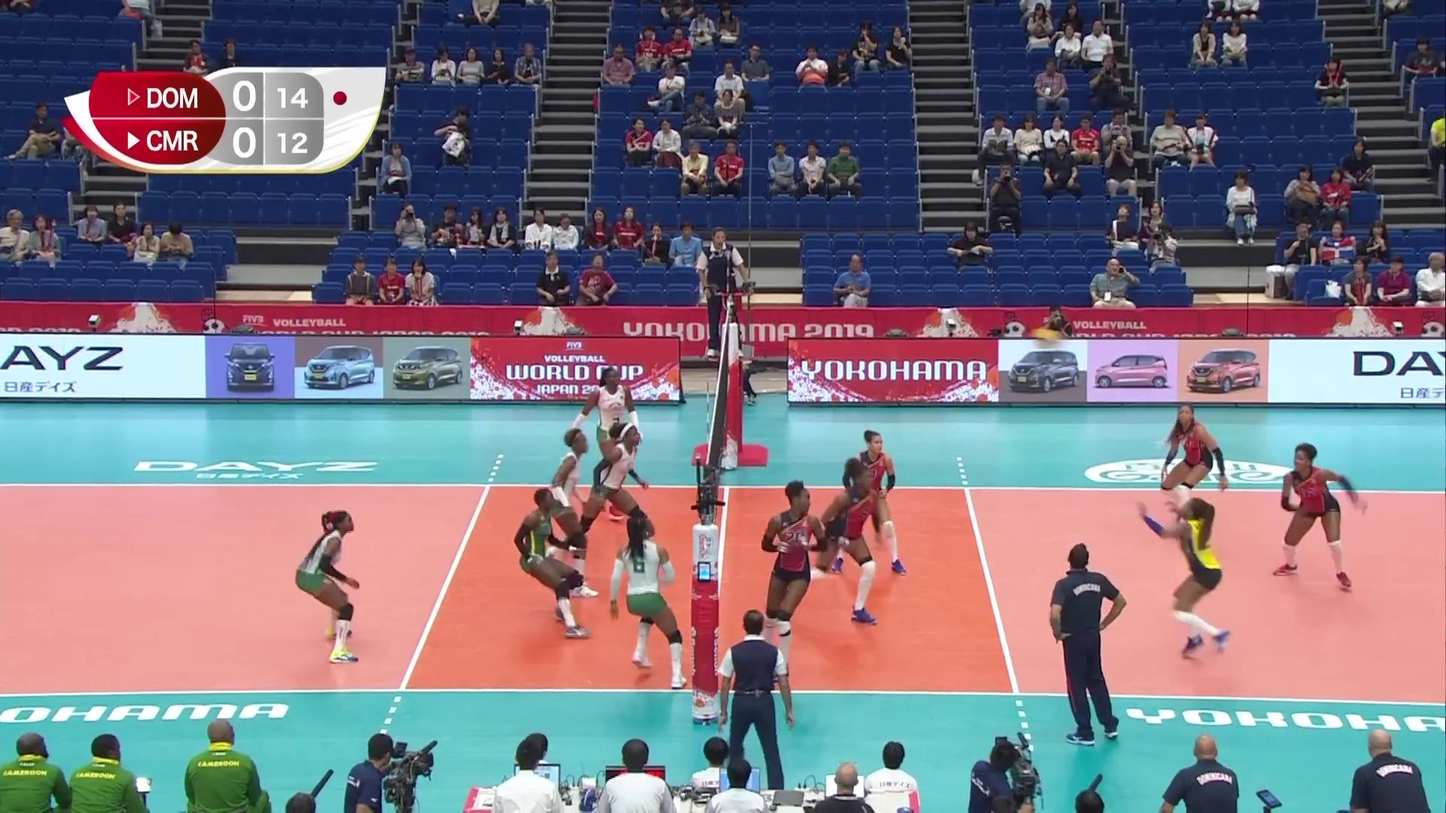player: (775, 458, 881, 624), (1143, 499, 1237, 663), (549, 422, 654, 566), (760, 478, 828, 684), (608, 514, 687, 689), (1275, 444, 1366, 588), (514, 485, 591, 639), (828, 429, 904, 576), (291, 512, 361, 662), (1151, 404, 1233, 530), (540, 428, 598, 600), (579, 364, 640, 521)
refree: (720, 612, 791, 780), (696, 224, 750, 362)
